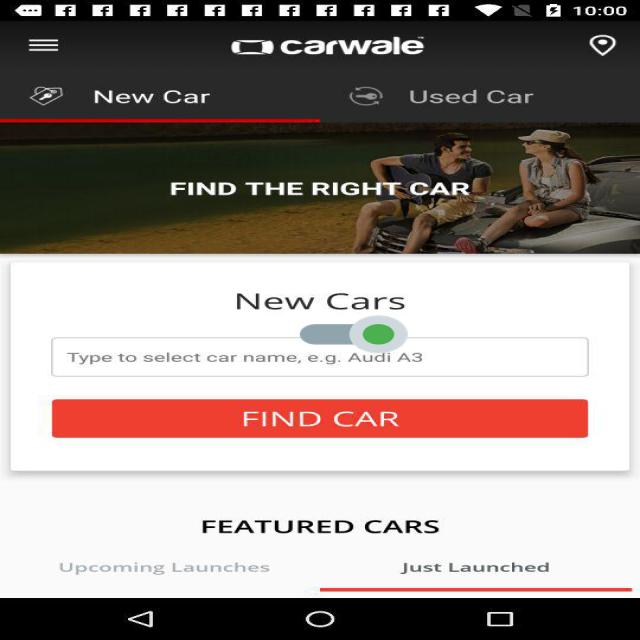social proof: (300, 300, 408, 370)
